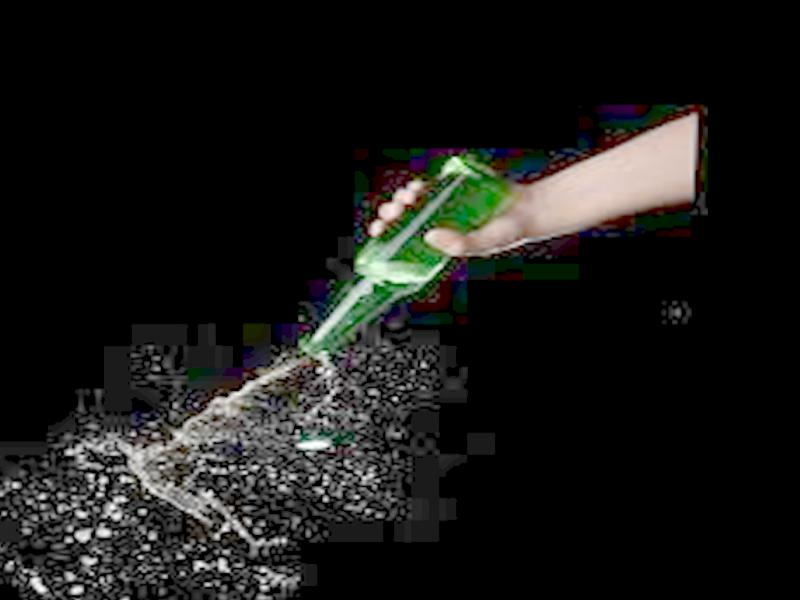Beer: (302, 151, 519, 358)
